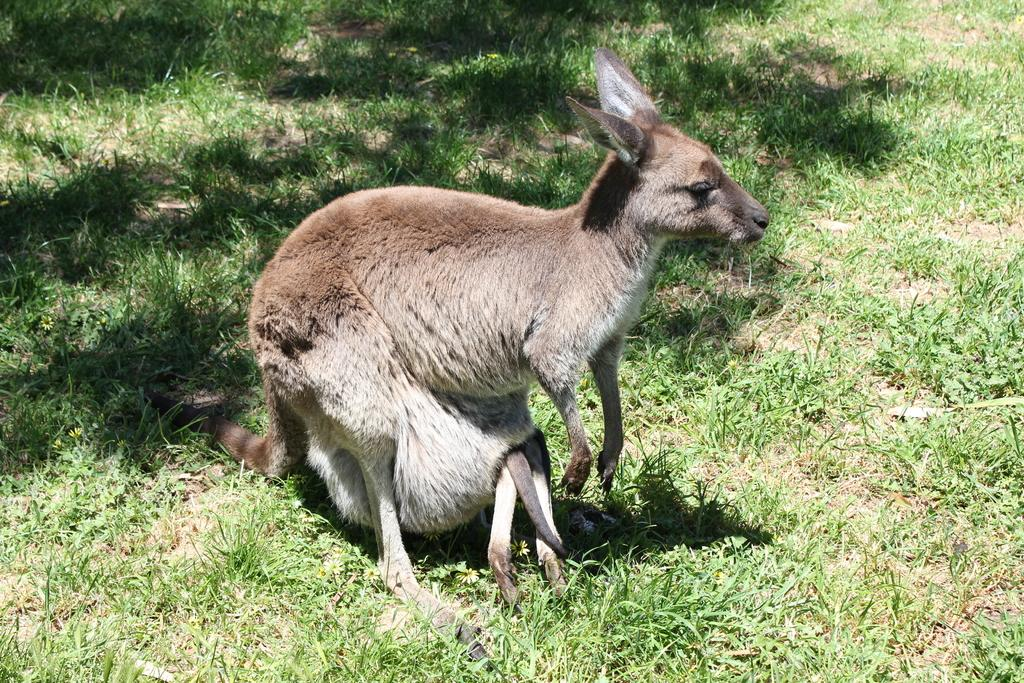kangaroo: (133, 49, 767, 661)
